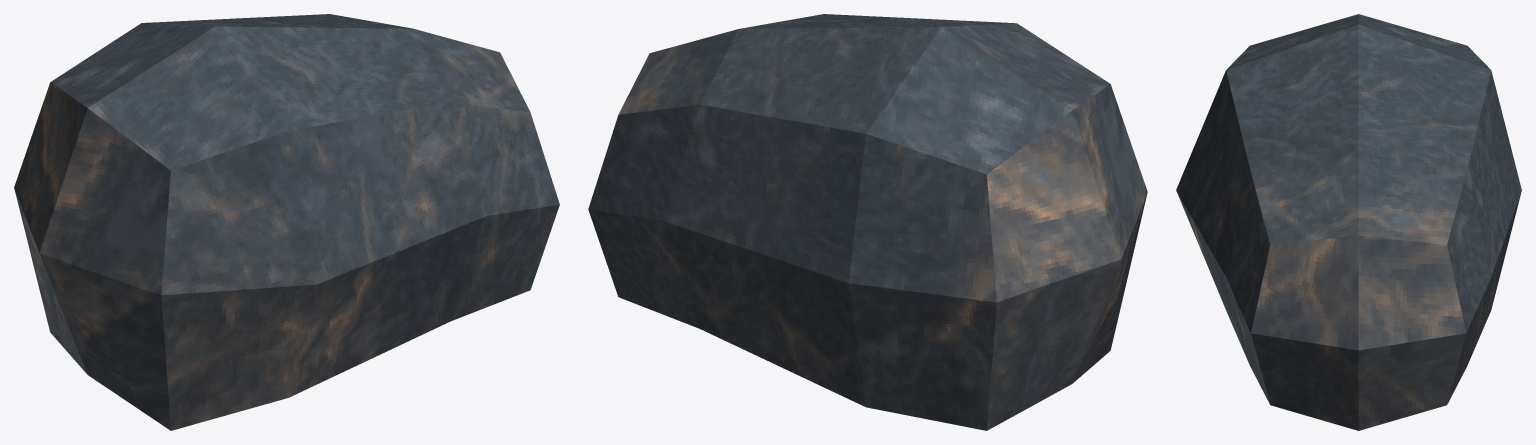
File: Rock1.glb
3 renders of one model, left to right at view 1: azimuth 30°, elevation 25°; view 2: azimuth 150°, elevation 25°; view 3: azimuth 270°, elevation 25°, orthographic. The views are drawn at different scales.
Visible parts, largest first — view 1: Cube; view 2: Cube; view 3: Cube.
Part boxes in pixels (x1,y1,x2,y2): Cube: (14,14,559,430); Cube: (588,14,1147,430); Cube: (1176,14,1521,430).
Size of the model in its own units: 2.39 by 1.56 by 1.59.
1 material, 1 textured.
